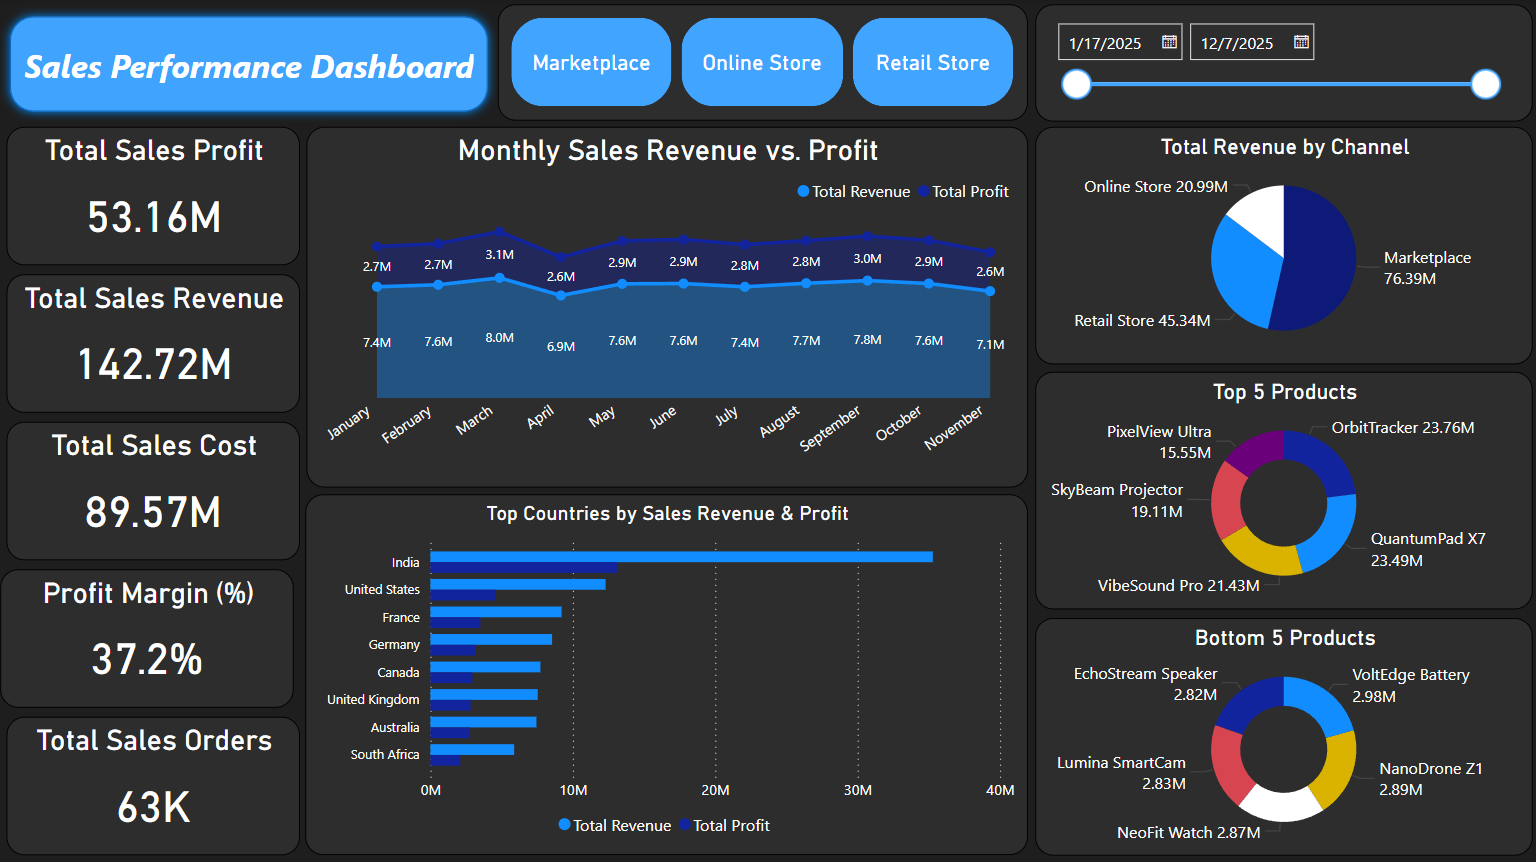

This screenshot's page, from the dashboard's own definition file:
{"tool":"powerbi","page":{"name":"Page 1","canvas":[1280,720],"ordinal":0},"visuals":[{"type":"card","title":"Total Sales Revenue","fields":{"Values":["Base Measures.Total Revenue"]},"box":[5.8,229.6,244.2,115],"z":0},{"type":"card","title":"Total Sales Orders","fields":{"Values":["Base Measures.Total Sale Orders"]},"box":[5.8,597.7,244.2,115.1],"z":1000},{"type":"card","title":"Total Sales Cost","fields":{"Values":["Base Measures.Total Cost"]},"box":[5.8,352.3,244.2,115.1],"z":2000},{"type":"donutChart","title":"Top 5 Products","fields":{"Category":["Products.Products Name"],"Y":["Base Measures.Total Revenue"]},"box":[861.6,310.5,414,197.7],"z":3000},{"type":"donutChart","title":"Bottom 5 Products","fields":{"Category":["Products.Products Name"],"Y":["Base Measures.Total Revenue"]},"box":[861.6,515.1,414,197.7],"z":4000},{"type":"pieChart","title":"Total Revenue by Channel","fields":{"Category":["Sales Orders.Channel"],"Y":["Base Measures.Total Revenue"]},"box":[861.6,107,414,197.7],"z":5000},{"type":"stackedAreaChart","title":"Monthly Sales Revenue vs. Profit","fields":{"Y":["Base Measures.Total Revenue","Base Measures.Total Profit"],"Category":["Sales Orders.OrderDate.Variation.Date Hierarchy.Month"]},"box":[255.8,107.2,600,300],"z":6000},{"type":"advancedSlicerVisual","fields":{"Values":["Sales Orders.Channel"]},"box":[415.1,5,440.7,96.5],"z":7000},{"type":"shape","title":"BenTech ","box":[1,7,414,95.3],"z":8000},{"type":"clusteredBarChart","title":"Top Countries by Sales Revenue & Profit","fields":{"Category":["Regions.Country"],"Y":["Base Measures.Total Revenue","Base Measures.Total Profit"]},"box":[255.8,412.8,601.2,300],"z":9000},{"type":"card","title":"Total Sales Profit","fields":{"Values":["Base Measures.Total Profit"]},"box":[5.8,107,244.2,115],"z":10000},{"type":"slicer","fields":{"Values":["Sales Orders.OrderDate"]},"box":[862,5,414,97.7],"z":11000},{"type":"card","title":"Profit Margin (%)","fields":{"Values":["Base Measures.Profit Margin (%)"]},"box":[1.2,475,244.2,115],"z":12000}]}

Visuals, with their boxes in screenshot pixels (x1, y1, x2, y2), scaled from the page's 1280x720 canvas onto the 1536x862 screenshot:
"Total Sales Revenue" card: x1=7, y1=275, x2=300, y2=413
"Total Sales Orders" card: x1=7, y1=716, x2=300, y2=853
"Total Sales Cost" card: x1=7, y1=422, x2=300, y2=560
"Top 5 Products" donutChart: x1=1034, y1=372, x2=1531, y2=608
"Bottom 5 Products" donutChart: x1=1034, y1=617, x2=1531, y2=853
"Total Revenue by Channel" pieChart: x1=1034, y1=128, x2=1531, y2=365
"Monthly Sales Revenue vs. Profit" stackedAreaChart: x1=307, y1=128, x2=1027, y2=488
advancedSlicerVisual - Sales Orders.Channel: x1=498, y1=6, x2=1027, y2=122
"BenTech " shape: x1=1, y1=8, x2=498, y2=122
"Top Countries by Sales Revenue & Profit" clusteredBarChart: x1=307, y1=494, x2=1028, y2=853
"Total Sales Profit" card: x1=7, y1=128, x2=300, y2=266
slicer - Sales Orders.OrderDate: x1=1034, y1=6, x2=1531, y2=123
"Profit Margin (%)" card: x1=1, y1=569, x2=294, y2=706
